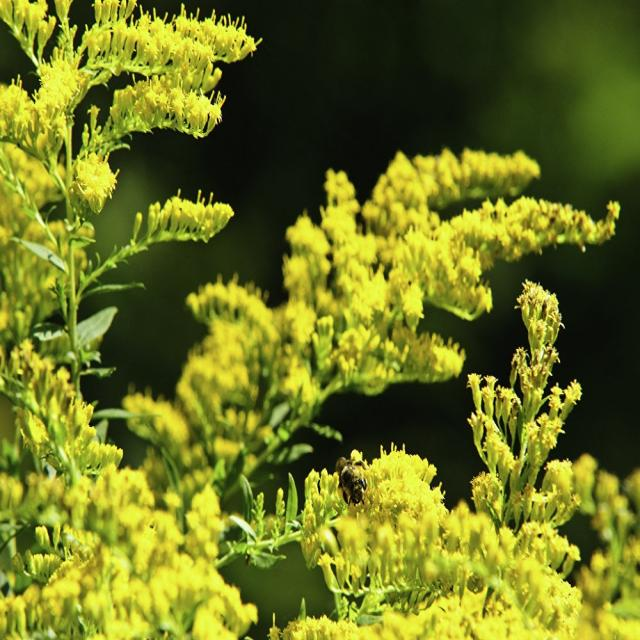ambrosia: (0, 352, 259, 640), (4, 0, 248, 263), (267, 140, 602, 320), (422, 278, 588, 630), (272, 400, 434, 636)
